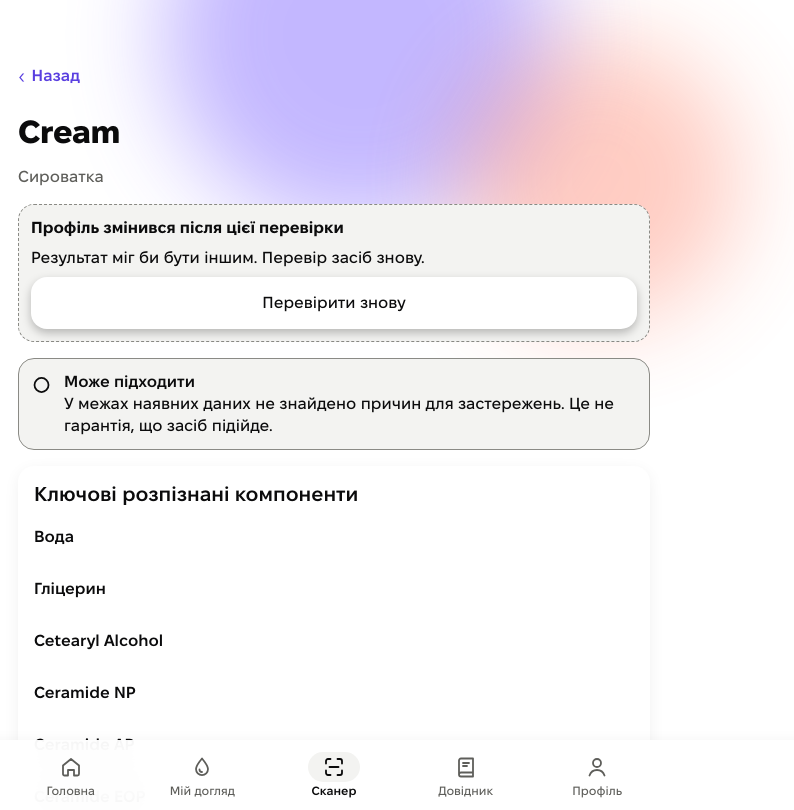
Test case: the history of checks › an old result shows the banner after the profile changed, and "check again" makes a new one
Check: the element "Може підходити" is shown, box [18, 358, 650, 450]
Check: the text "Профіль змінився після цієї перевірки" is shown, box [31, 219, 344, 236]
Click the button "Перевірити знову" at (334, 303), box [31, 277, 637, 329]
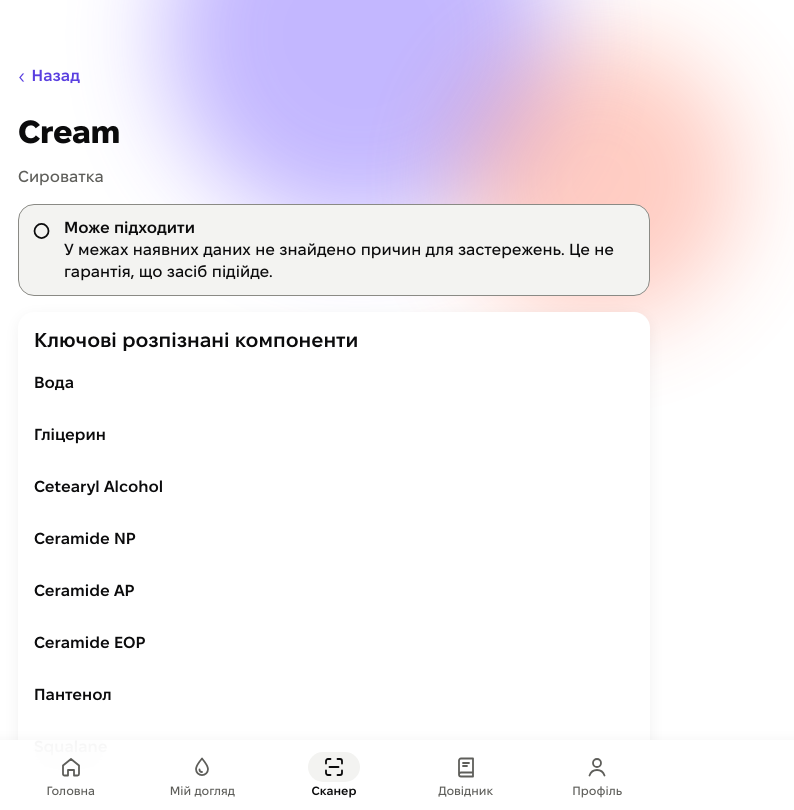
Check: the text "Профіль змінився після цієї перевірки" is gone
